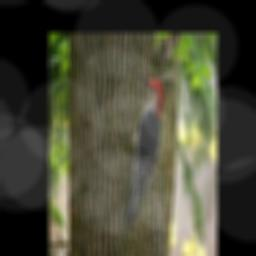Woodpecker: (122, 73, 163, 222)
